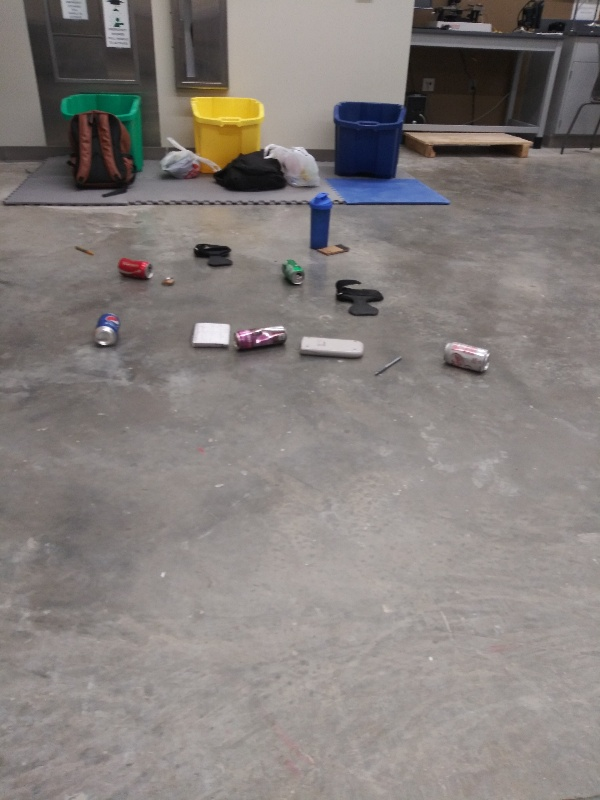can: (230, 323, 291, 356), (438, 339, 495, 374), (90, 309, 123, 349), (114, 254, 154, 280), (276, 254, 306, 287)
